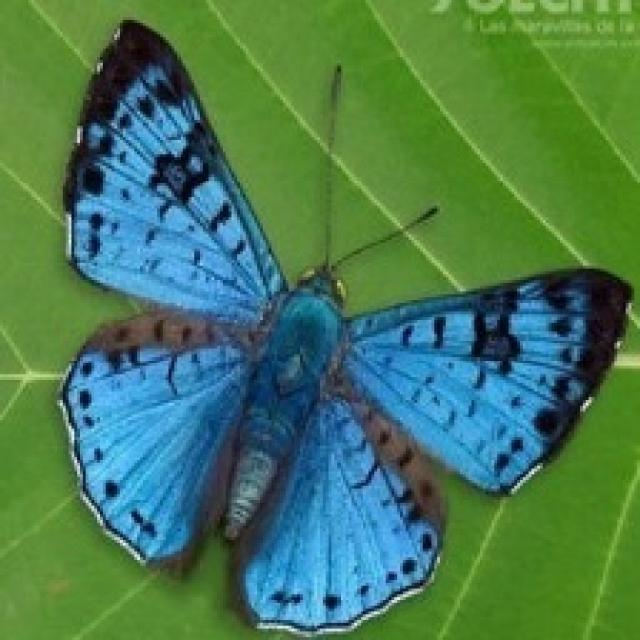butterfly: (55, 14, 634, 637)
